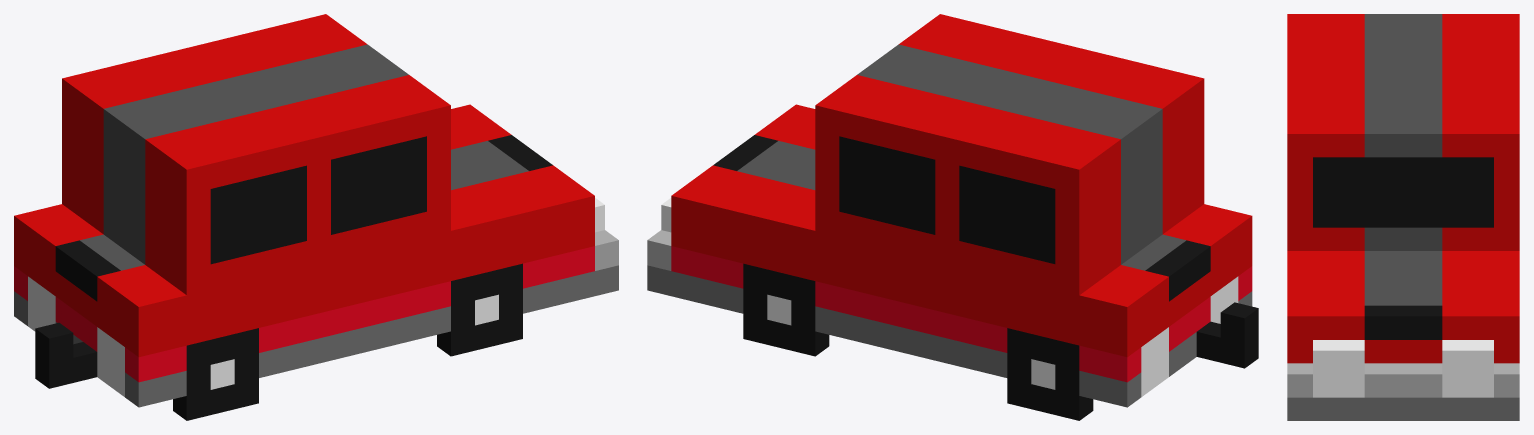
Rendered from car.obj.
3 renders of one model, left to right at view 1: azimuth 30°, elevation 25°; view 2: azimuth 150°, elevation 25°; view 3: azimuth 270°, elevation 25°, orthographic. The views are drawn at different scales.
Size of the model in its own units: 2.2 by 1 by 0.9.
1 material, 1 textured.
